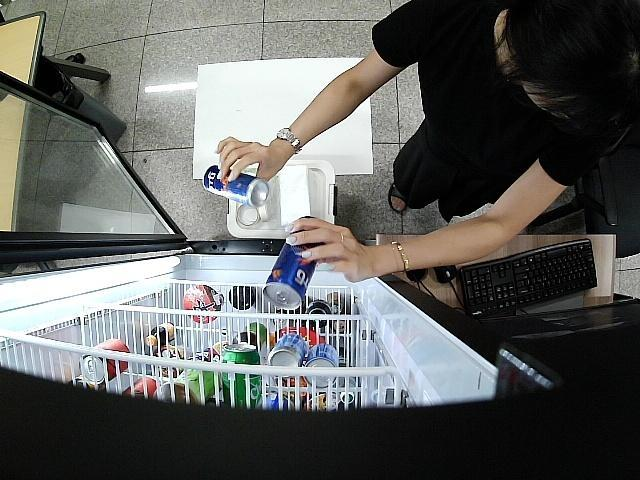16_hot6: (262, 230, 324, 308), (204, 162, 268, 210)
